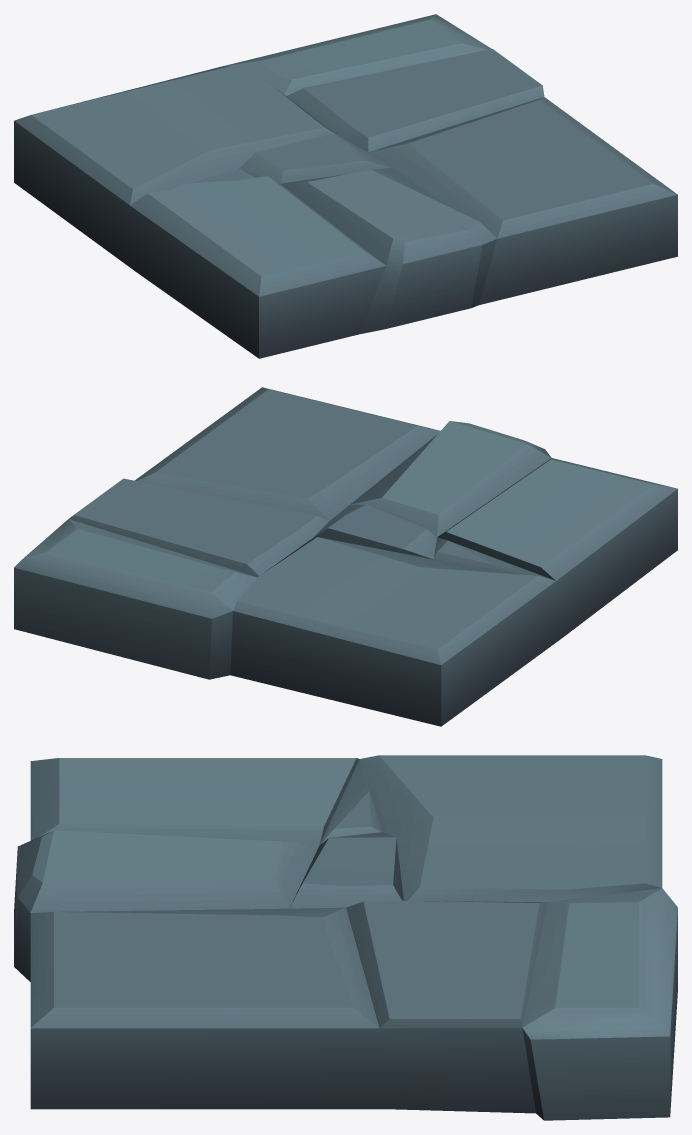
The model's file is Modular_Dungeon_Tile_Irregular_Single2.fbx.
3 renders of one model, top to bottom at view 1: azimuth 30°, elevation 25°; view 2: azimuth 150°, elevation 25°; view 3: azimuth 270°, elevation 25°, orthographic. The views are drawn at different scales.
Parts seen in each view (by area): view 1: Tile_Irregular_Single2; view 2: Tile_Irregular_Single2; view 3: Tile_Irregular_Single2.
Part boxes in pixels (box(x1,y1,x2,y2)): Tile_Irregular_Single2: box(14, 14, 677, 358); Tile_Irregular_Single2: box(14, 387, 677, 726); Tile_Irregular_Single2: box(14, 755, 677, 1120).
Size of the model in its own units: 3.27 by 0.5956 by 3.32.
1 material, 1 textured.
